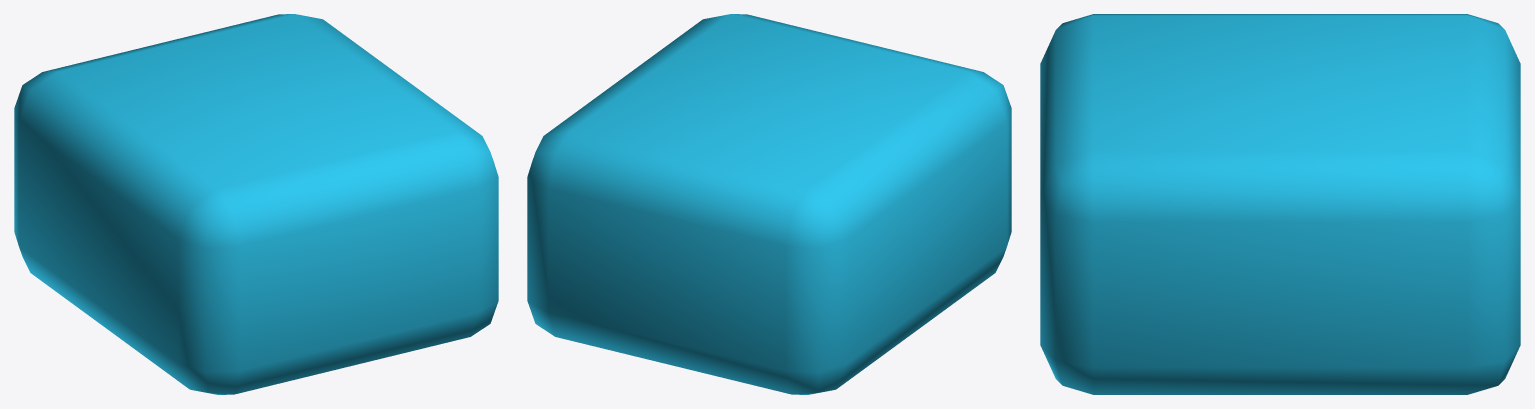
File: GEO_HATCHBACK_Mirror_Housing_R.glb
The picture shows the model from 3 angles, left to right: view 1: azimuth 30°, elevation 25°; view 2: azimuth 150°, elevation 25°; view 3: azimuth 270°, elevation 25°; orthographic projection. The views are drawn at different scales.
Visible parts, largest first — view 1: GEO_HATCHBACK_Mirror_Housing_R; view 2: GEO_HATCHBACK_Mirror_Housing_R; view 3: GEO_HATCHBACK_Mirror_Housing_R.
Part boxes in pixels (<box>): GEO_HATCHBACK_Mirror_Housing_R: <box>14,14,498,394</box>; GEO_HATCHBACK_Mirror_Housing_R: <box>527,14,1011,394</box>; GEO_HATCHBACK_Mirror_Housing_R: <box>1040,14,1520,394</box>.
Size of the model in its own units: 0.16 by 0.1 by 0.18.
